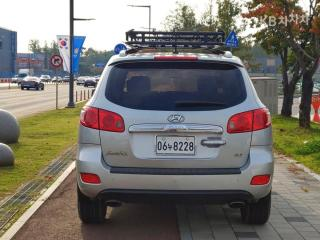0: (157, 140, 163, 151)
2: (178, 141, 184, 152), (184, 141, 189, 151)
6: (162, 140, 168, 151)
8: (189, 141, 194, 153), (173, 140, 178, 151)
plate: (150, 132, 200, 160)
누: (167, 142, 173, 151)
